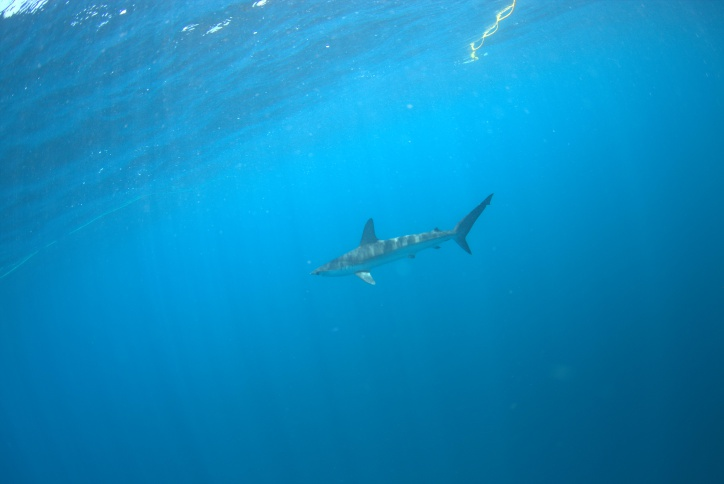Hammer: (279, 186, 566, 307)
